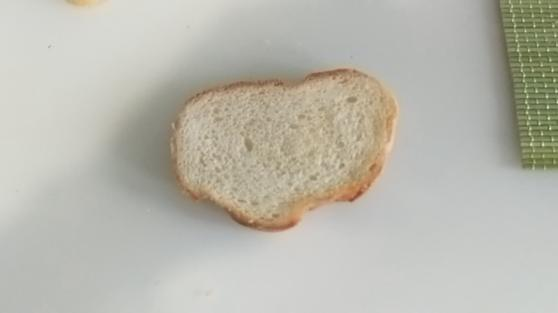white_bread: (170, 66, 402, 237)
